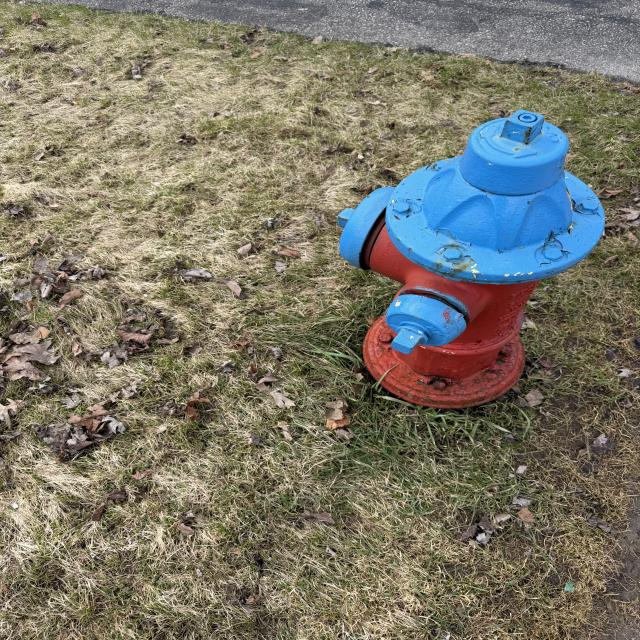Fire hydrant: (335, 110, 606, 410)
